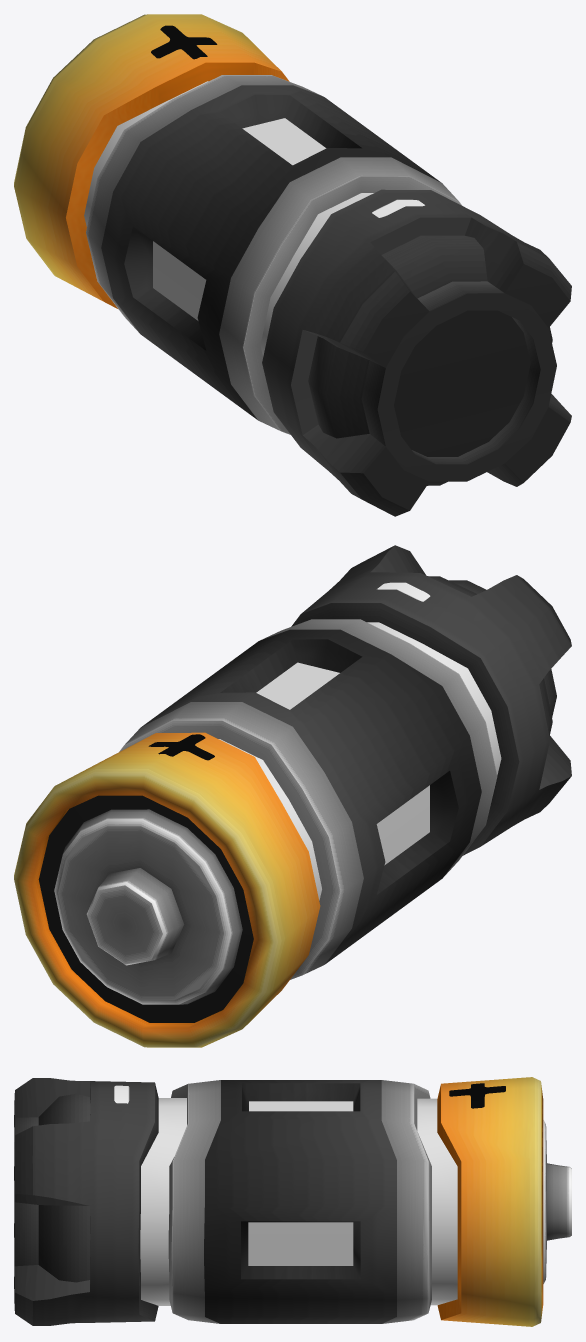
The model's file is Battery_Regular.fbx.
3 views of the same model, one above another, from view 1: azimuth 30°, elevation 25°; view 2: azimuth 150°, elevation 25°; view 3: azimuth 270°, elevation 25° (orthographic). The views are drawn at different scales.
Visible parts, largest first — view 1: Battery; view 2: Battery; view 3: Battery.
Boxes of the visible parts, x1,y1,x2,y2 form: Battery: (14,14,571,516); Battery: (14,545,571,1047); Battery: (14,1077,571,1326).
Bounding box in the file's own units: 0.5573 × 0.5622 × 1.23.
Materials: 2 (1 with a texture image).
